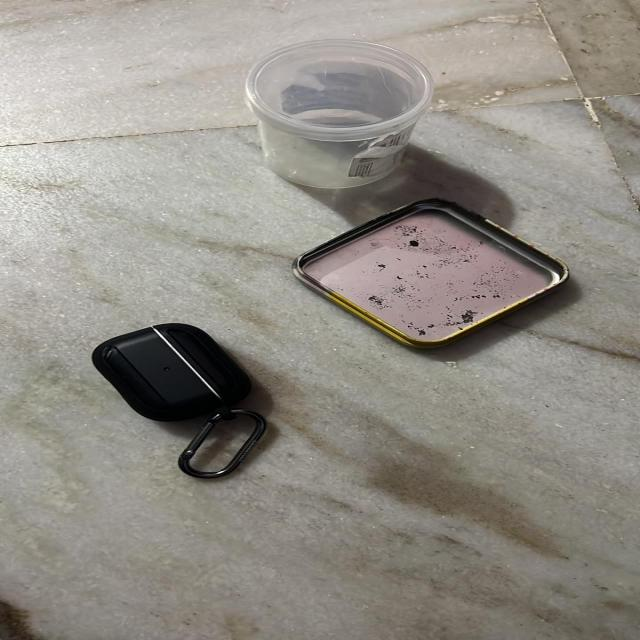metal: (276, 200, 640, 338)
plastic: (60, 326, 350, 492), (223, 46, 471, 188)
